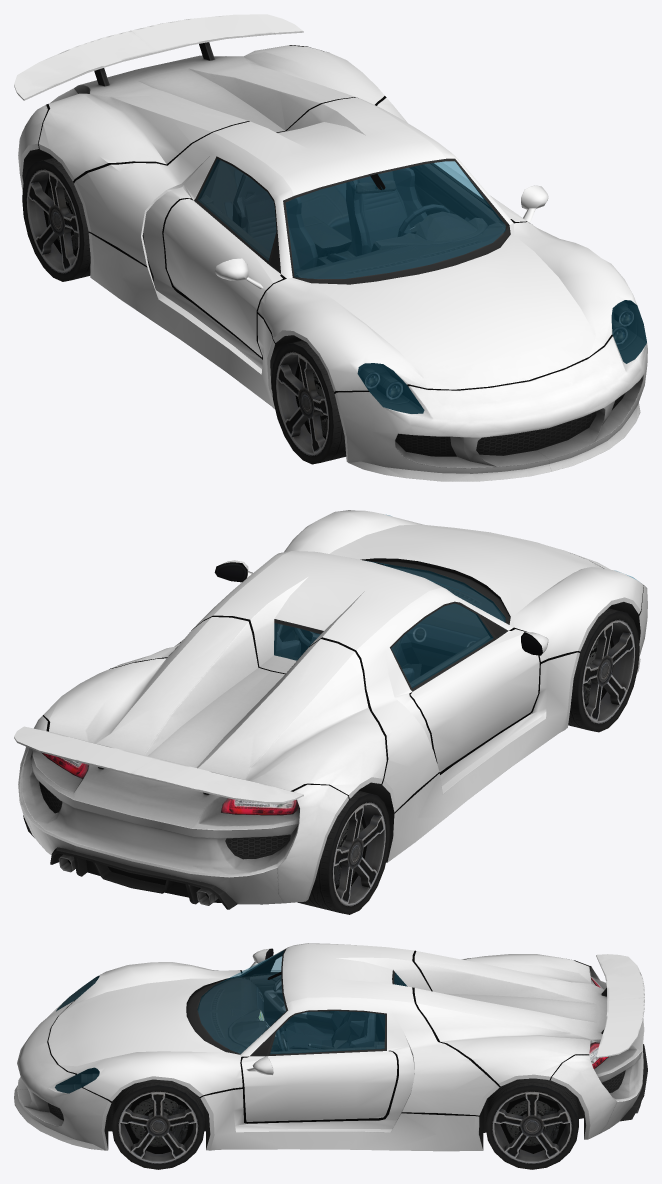
The model's file is Car49Saad.fbx.
3 views of the same model, one above another, from view 1: azimuth 30°, elevation 25°; view 2: azimuth 150°, elevation 25°; view 3: azimuth 270°, elevation 25° (orthographic). The views are drawn at different scales.
Parts seen in each view (by area): view 1: Car49_Body, Car_49_Glass, Car_49_Interior_D, Car_49_Matte, Car_49_Wheels3, Car_49_Wheels1; view 2: Car49_Body, Car_49_Matte, Car_49_Glass, Car_49_Wheels1, Car_49_Interior_D, Car_49_Wheels3, Car_49_Taillights; view 3: Car49_Body, Car_49_Glass, Car_49_Interior_D, Car_49_Matte, Car_49_Wheels4, Car_49_Wheels2.
Part boxes in pixels (x1,y1,x2,y2): Car49_Body: [14, 14, 647, 481]; Car_49_Glass: [197, 159, 646, 413]; Car_49_Interior_D: [200, 160, 506, 278]; Car_49_Matte: [22, 42, 646, 456]; Car_49_Wheels3: [271, 340, 346, 464]; Car_49_Wheels1: [22, 158, 90, 281]; Car49_Body: [14, 510, 647, 904]; Car_49_Matte: [39, 558, 640, 909]; Car_49_Glass: [274, 514, 636, 687]; Car_49_Wheels1: [297, 790, 390, 914]; Car_49_Interior_D: [276, 563, 504, 686]; Car_49_Wheels3: [568, 608, 639, 732]; Car_49_Taillights: [41, 752, 298, 815]; Car49_Body: [14, 943, 644, 1151]; Car_49_Glass: [55, 951, 406, 1092]; Car_49_Interior_D: [198, 972, 401, 1053]; Car_49_Matte: [48, 948, 647, 1153]; Car_49_Wheels4: [485, 1078, 578, 1169]; Car_49_Wheels2: [111, 1079, 204, 1169].
Bounding box in the file's own units: 2.09 × 1.19 × 4.67.
6 materials, 5 textured.
